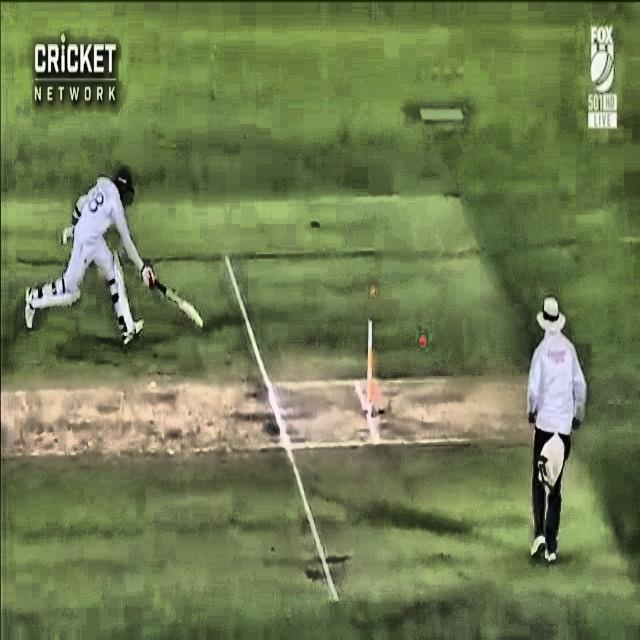Ball: (409, 327, 437, 361)
Bat: (135, 264, 207, 331)
Dis_Wicket: (357, 278, 387, 422)
Pitch_Line: (223, 255, 339, 602)
